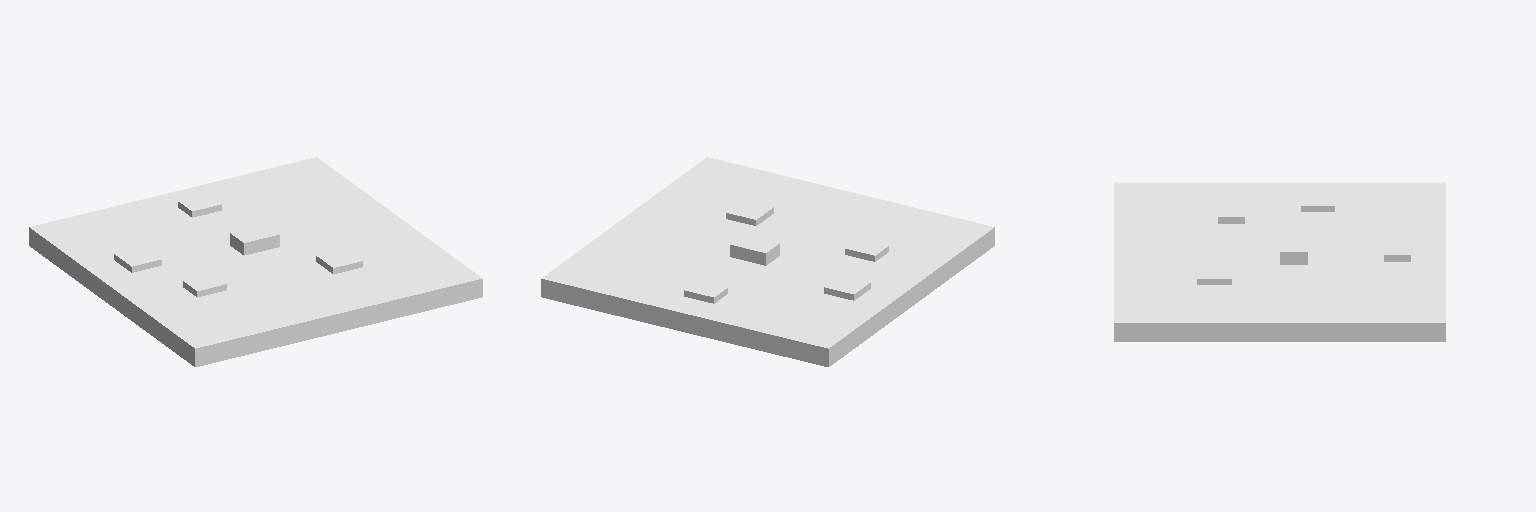
File: lite-grass-v5.obj
The picture shows the model from 3 angles: view 1: azimuth 30°, elevation 25°; view 2: azimuth 150°, elevation 25°; view 3: azimuth 270°, elevation 25°; orthographic projection.
Parts seen in each view (by area): view 1: object 1; view 2: object 1; view 3: object 1.
Part boxes in pixels (x1,y1,x2,y2): object 1: (29,157,482,366); object 1: (541,157,994,366); object 1: (1114,183,1445,341).
Size of the model in its own units: 4.8 by 0.5 by 4.8.